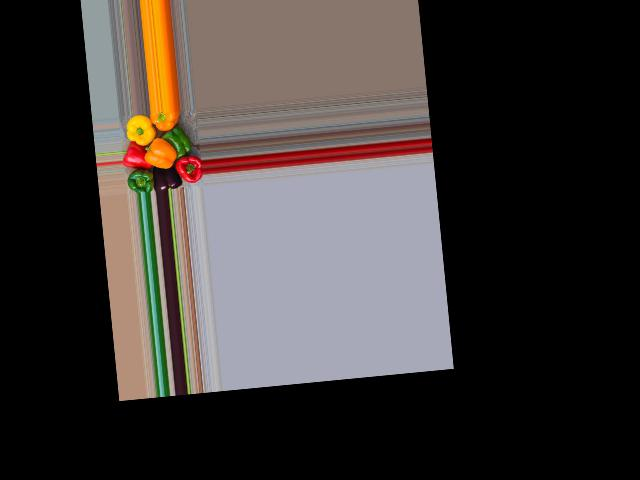bell_pepper: (150, 110, 189, 138)
